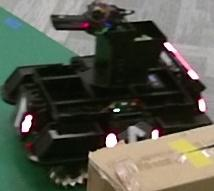left_1: (117, 120, 153, 144)
light: (163, 41, 199, 80)
